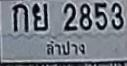2: (63, 2, 76, 30)
3: (110, 2, 123, 29)
5: (94, 2, 106, 29)
8: (79, 3, 91, 29)
A01: (12, 3, 28, 31)
A34: (31, 2, 47, 30)
LPG: (44, 39, 88, 57)
